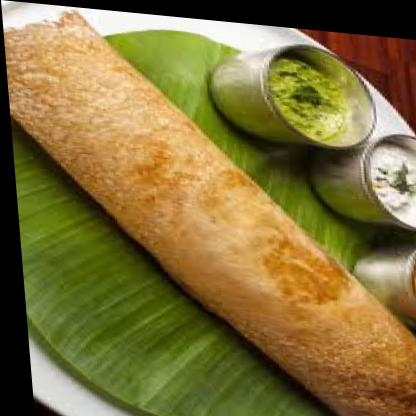dosa: (0, 3, 416, 416)
